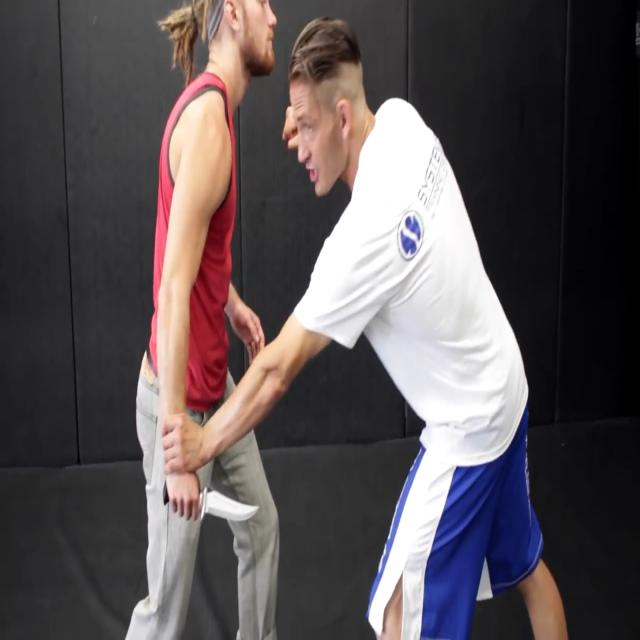knife: (201, 480, 262, 530)
